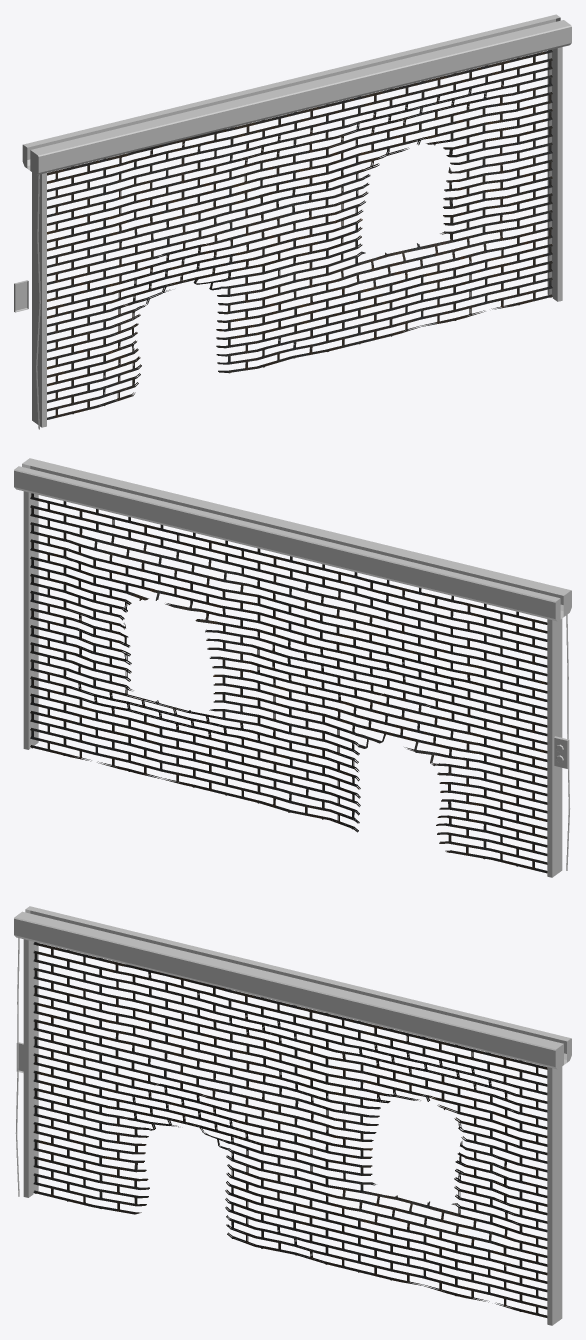
File: SM_Lattice_Gate_04.fbx
3 renders of one model, top to bottom at view 1: azimuth 30°, elevation 25°; view 2: azimuth 150°, elevation 25°; view 3: azimuth 330°, elevation 25°, orthographic.
Parts seen in each view (by area): view 1: SM_Lattice_Gate_04; view 2: SM_Lattice_Gate_04; view 3: SM_Lattice_Gate_04.
Part boxes in pixels (bbox=[...]): SM_Lattice_Gate_04: bbox=[14, 14, 571, 429]; SM_Lattice_Gate_04: bbox=[14, 458, 571, 877]; SM_Lattice_Gate_04: bbox=[14, 906, 571, 1325].
Size of the model in its own units: 627 by 304 by 32.12.
